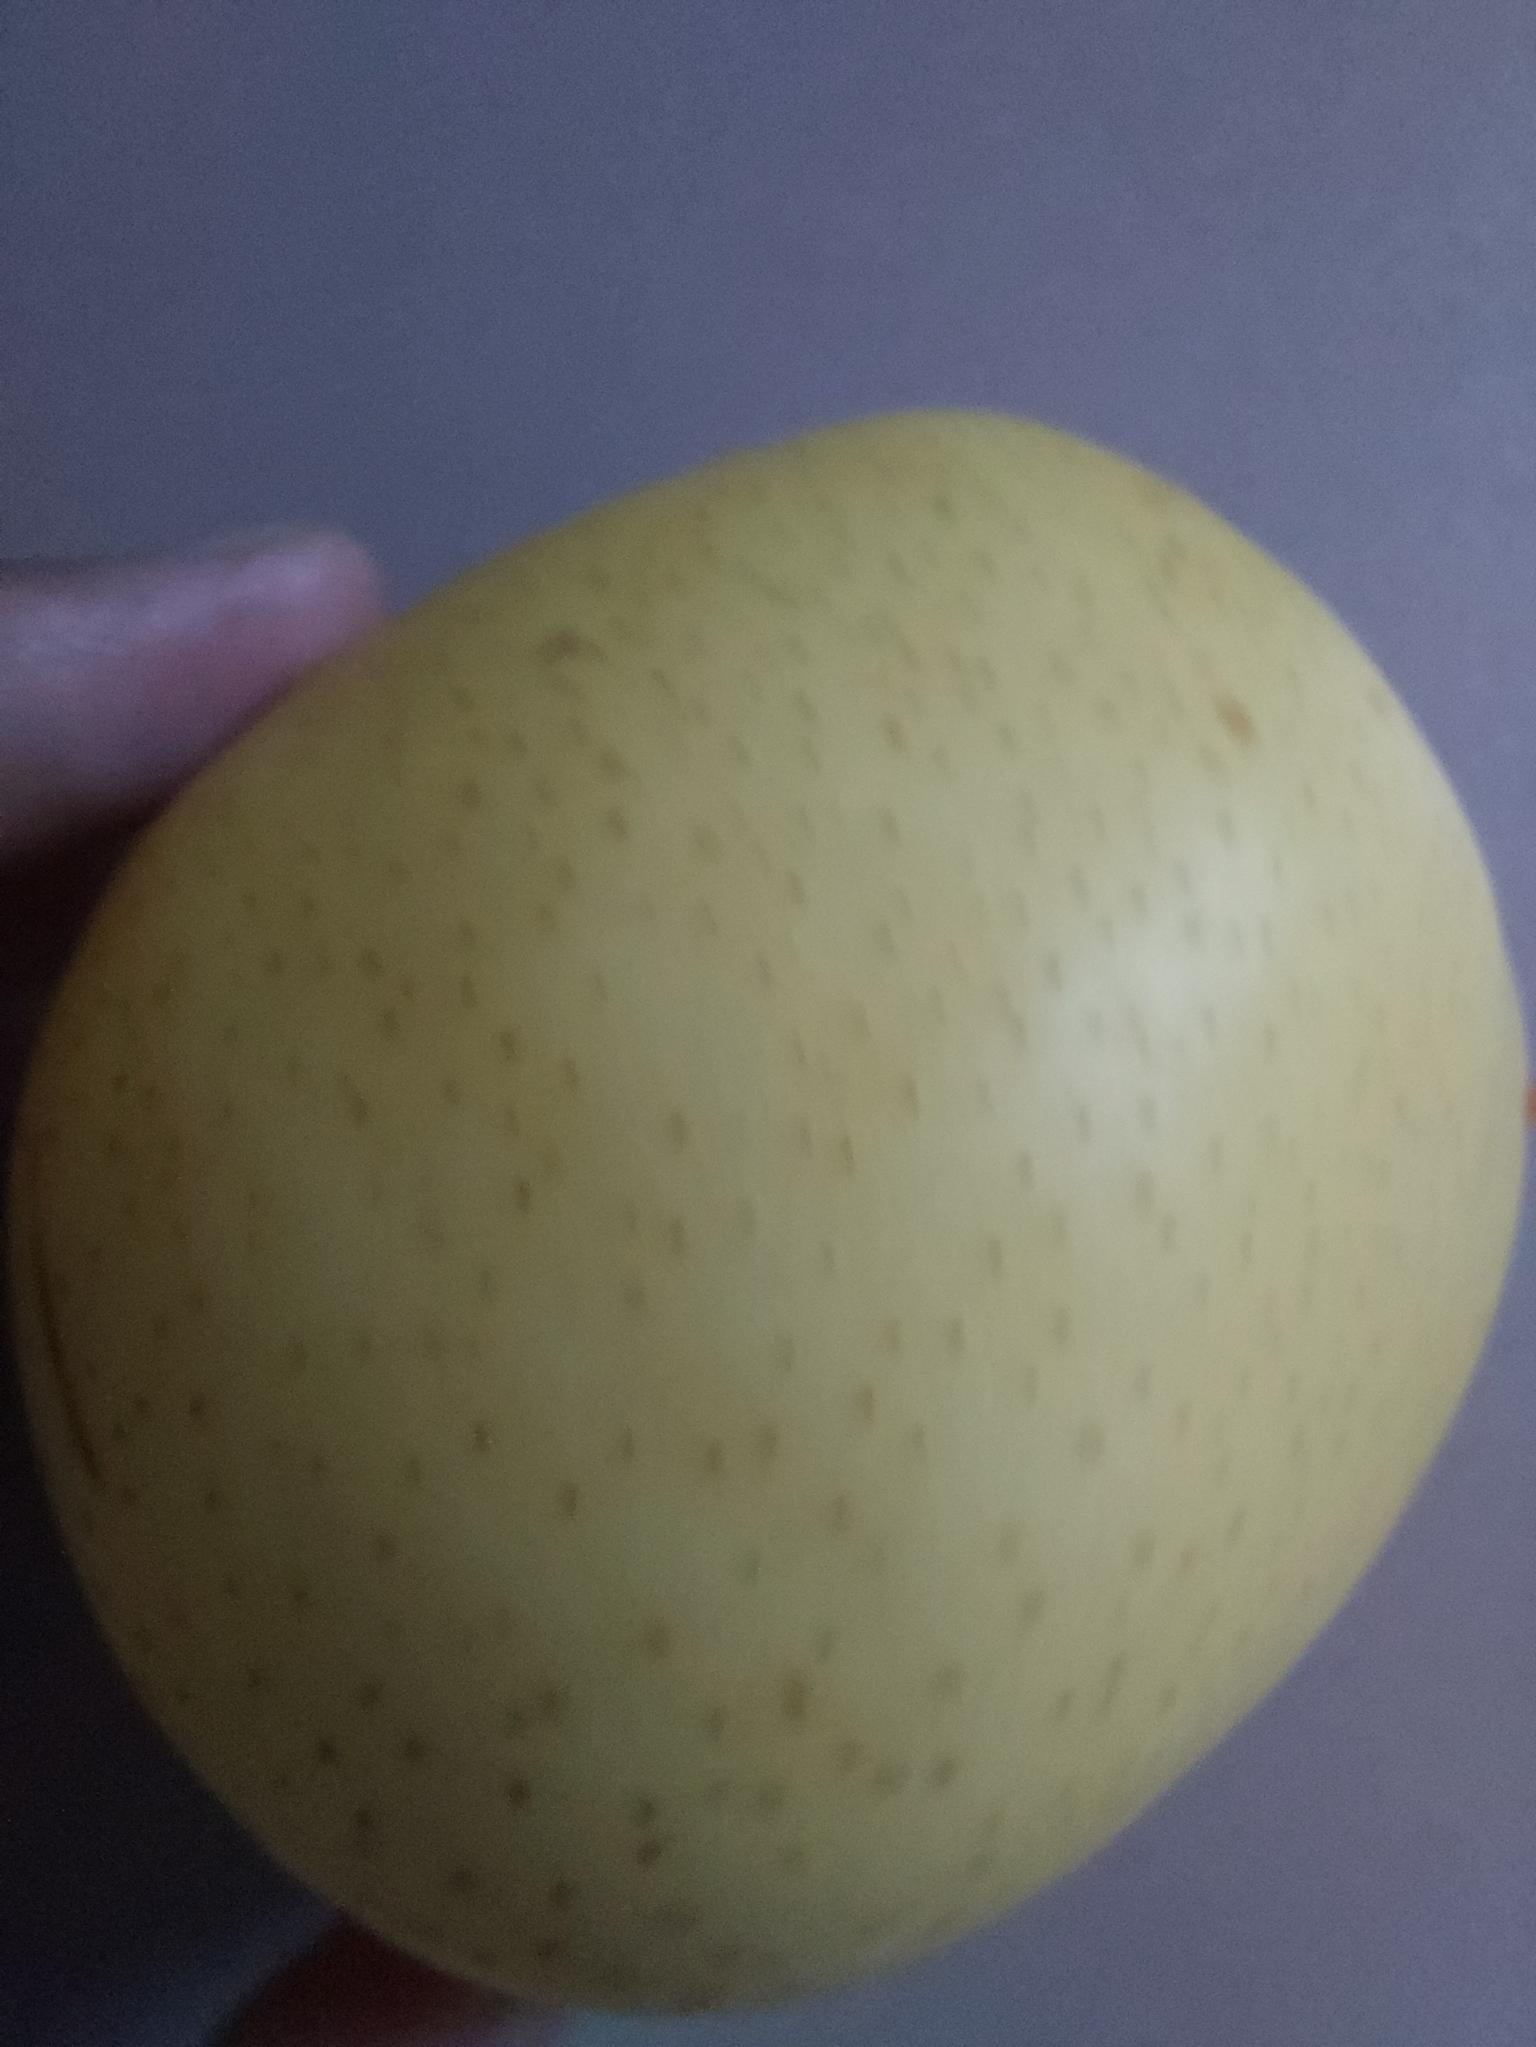Good Pear: (44, 398, 1536, 2020)
